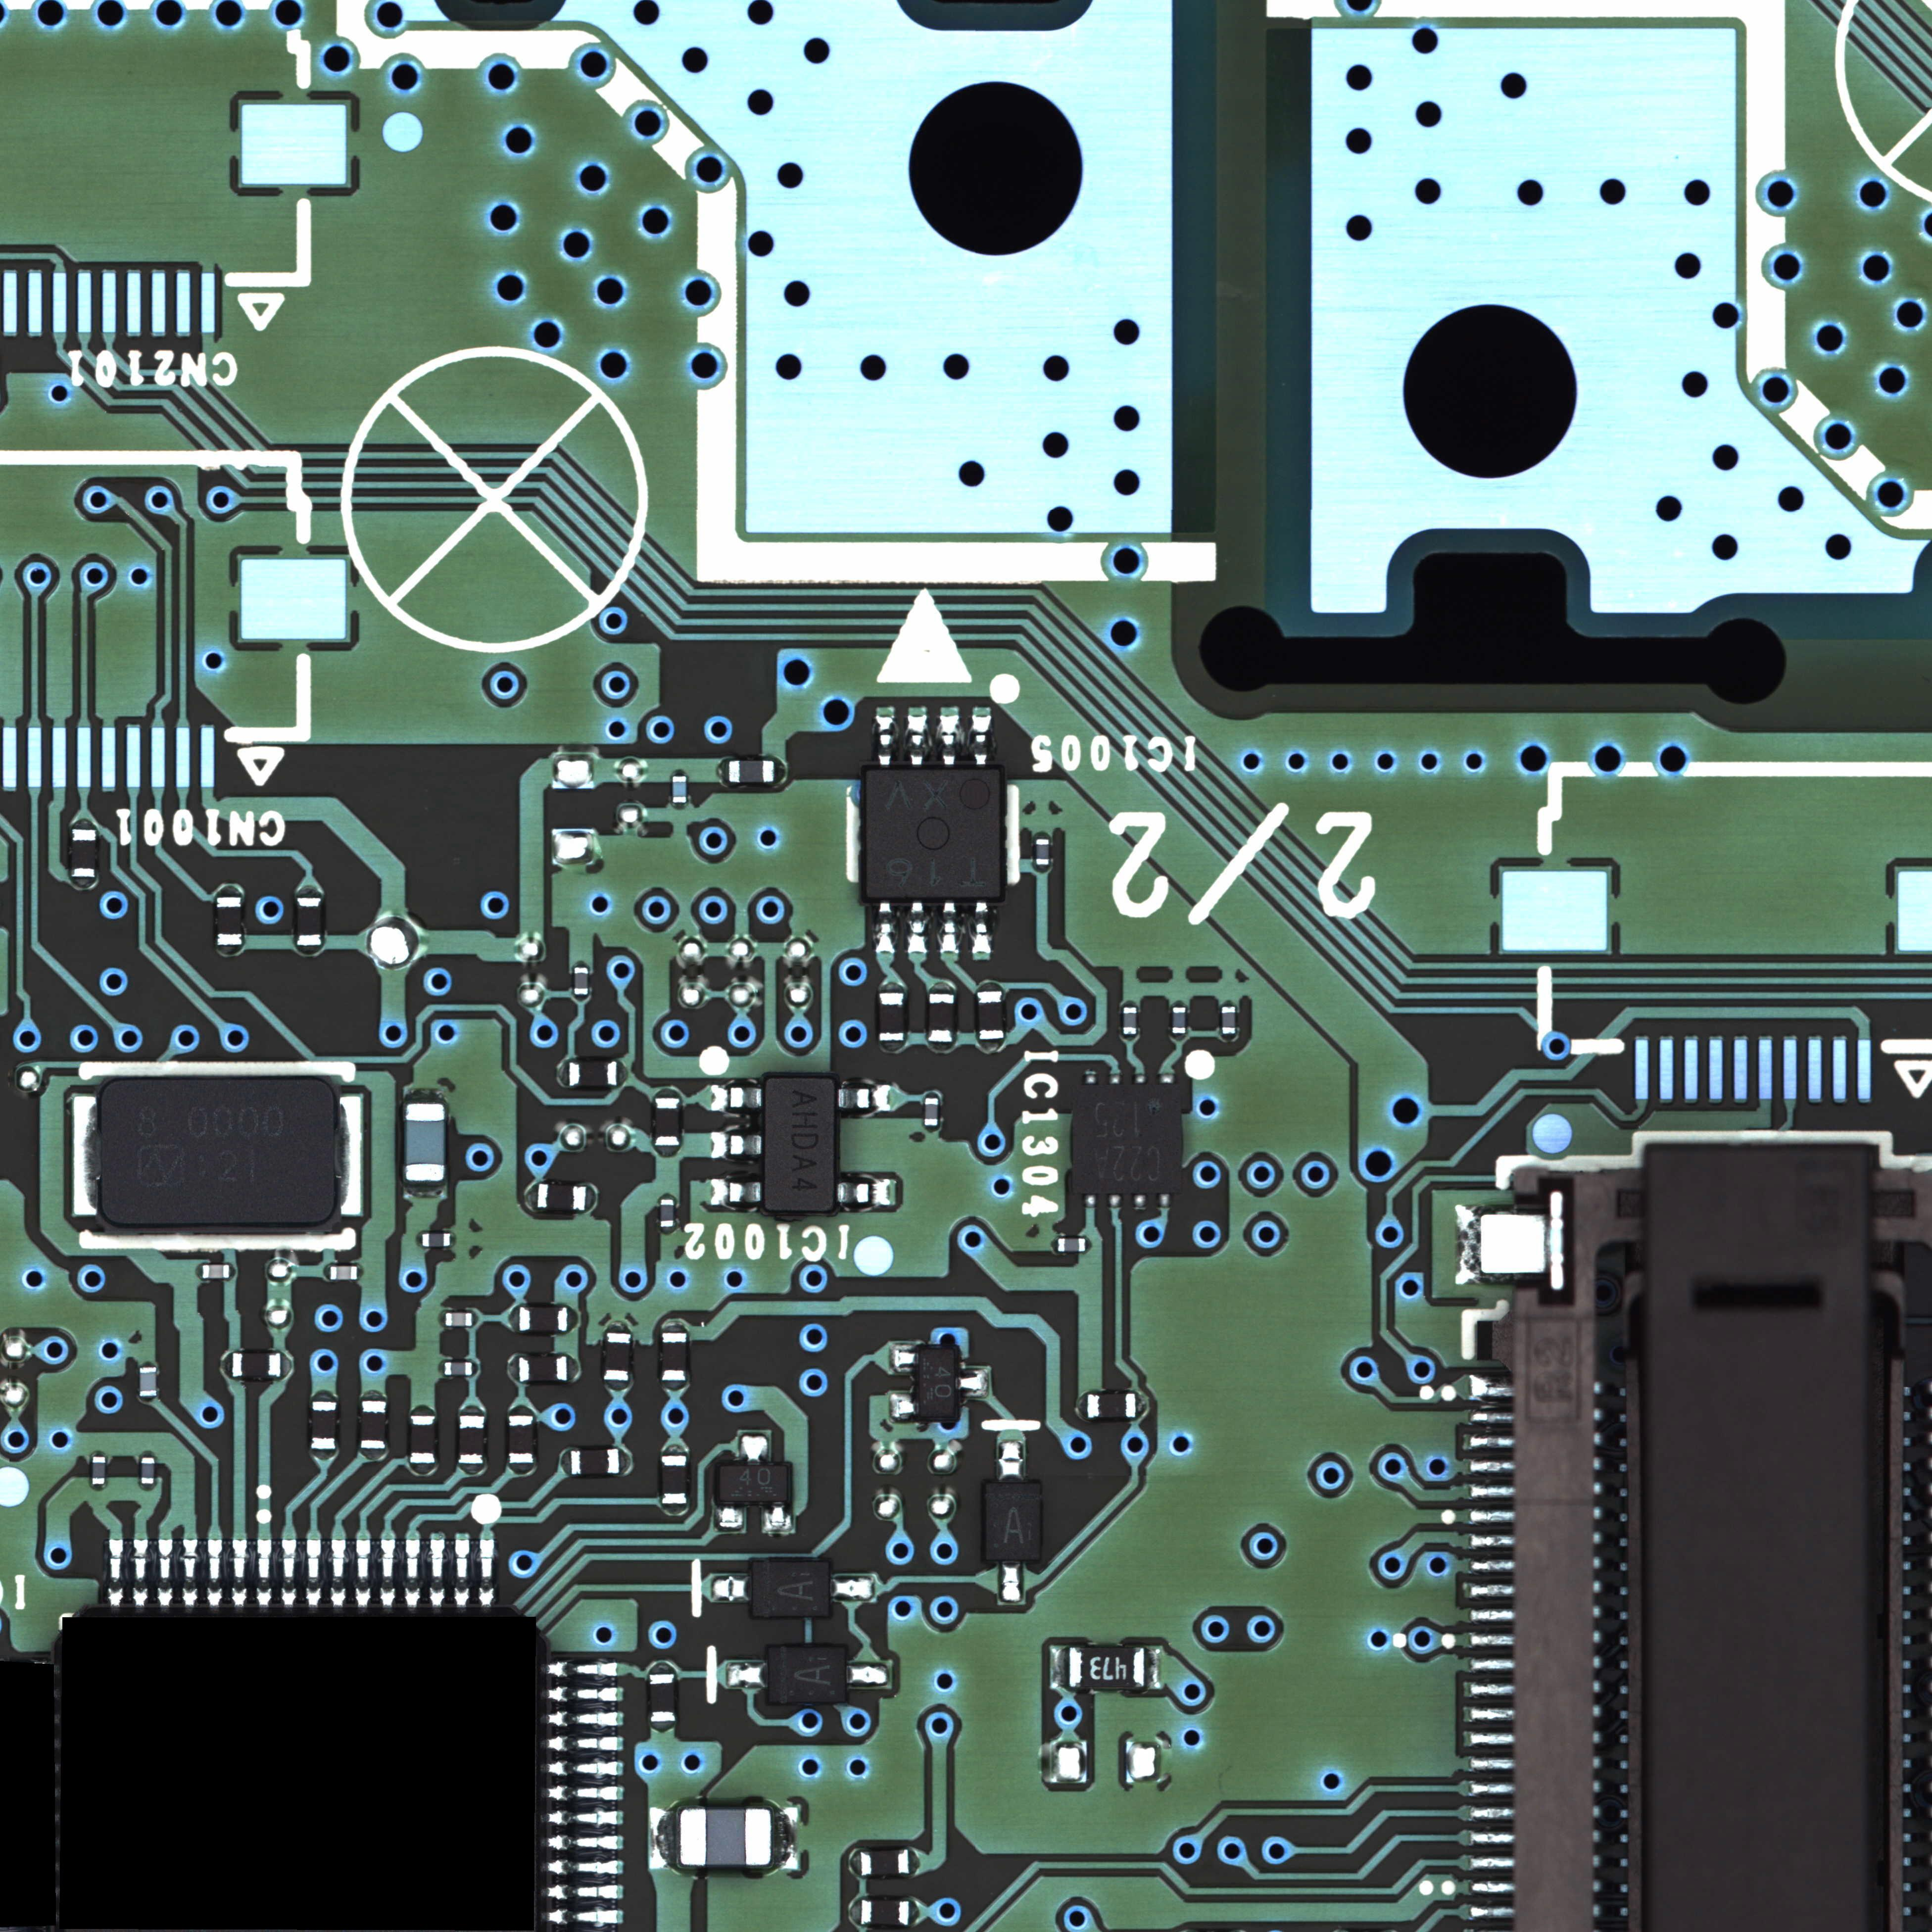Package: (99, 1079, 336, 1224), (865, 768, 1005, 899), (1072, 1085, 1180, 1192), (763, 1077, 837, 1208), (679, 1808, 771, 1867), (768, 1647, 846, 1702), (752, 1560, 830, 1615), (985, 1483, 1039, 1560), (1069, 1647, 1145, 1688), (405, 1104, 444, 1180), (718, 1467, 789, 1502), (918, 1348, 955, 1415), (216, 897, 242, 945), (232, 1352, 280, 1378), (538, 1184, 586, 1210), (71, 828, 96, 878), (605, 1332, 630, 1382), (978, 991, 1003, 1040), (655, 1097, 679, 1146), (518, 1357, 566, 1382), (571, 1449, 619, 1474), (570, 1062, 617, 1086), (879, 993, 904, 1040), (929, 994, 954, 1042), (662, 1332, 686, 1380), (662, 1456, 686, 1504), (649, 1674, 674, 1721), (860, 1851, 908, 1875), (1088, 1392, 1136, 1417), (862, 1900, 908, 1925), (297, 897, 320, 945), (311, 1401, 334, 1449), (363, 1401, 386, 1449), (410, 1415, 433, 1463), (460, 1415, 483, 1463), (510, 1415, 533, 1463), (729, 759, 773, 784), (520, 1307, 566, 1330), (140, 1368, 157, 1396), (924, 1097, 939, 1125), (573, 966, 587, 994), (660, 1200, 674, 1228), (1123, 1007, 1138, 1035), (331, 1267, 357, 1281), (423, 1233, 449, 1247), (446, 1362, 472, 1376), (672, 777, 686, 803), (1058, 1238, 1085, 1253), (1221, 1007, 1235, 1033), (203, 1265, 230, 1277), (92, 1458, 104, 1484), (446, 1313, 472, 1325), (1037, 839, 1049, 865), (1173, 1007, 1185, 1033), (142, 1458, 154, 1483)
Solder: (73, 1095, 99, 1215), (336, 1097, 361, 1215), (649, 1806, 679, 1868), (771, 1806, 800, 1870), (837, 1178, 890, 1205), (837, 1085, 890, 1111), (711, 1085, 763, 1111), (711, 1132, 763, 1159), (711, 1178, 763, 1205), (548, 1808, 619, 1826), (830, 1575, 876, 1601), (453, 1537, 471, 1606), (403, 1537, 421, 1606), (379, 1537, 396, 1606), (329, 1537, 347, 1606), (180, 1539, 198, 1606), (205, 1539, 223, 1606), (255, 1539, 272, 1606), (545, 1661, 617, 1677), (547, 1686, 619, 1702), (547, 1711, 619, 1727), (547, 1760, 619, 1776), (998, 1440, 1024, 1483), (548, 1736, 619, 1752), (548, 1882, 619, 1898), (230, 1537, 246, 1606), (478, 1537, 494, 1606), (428, 1537, 444, 1606), (356, 1537, 372, 1606), (548, 1835, 617, 1851), (846, 1661, 890, 1686), (108, 1539, 124, 1606), (133, 1539, 149, 1606), (157, 1539, 173, 1606), (280, 1539, 295, 1606), (306, 1539, 322, 1606), (908, 899, 927, 954), (876, 899, 895, 954), (725, 1663, 768, 1688), (998, 1560, 1023, 1603), (939, 901, 959, 954), (971, 715, 991, 768), (939, 715, 959, 768), (908, 715, 927, 768), (876, 715, 895, 768), (955, 1368, 989, 1398), (548, 1785, 619, 1799), (548, 1909, 619, 1923), (548, 1859, 619, 1874), (973, 899, 991, 954), (711, 1576, 750, 1601), (763, 1502, 793, 1532), (715, 1502, 745, 1532), (888, 1343, 918, 1373), (740, 1433, 768, 1465), (890, 1392, 918, 1422), (405, 1180, 446, 1200), (1051, 1647, 1069, 1688), (1145, 1649, 1161, 1688), (405, 1088, 444, 1102), (908, 1849, 922, 1875), (605, 1320, 632, 1332), (619, 1449, 632, 1476), (566, 1355, 579, 1382), (508, 1306, 520, 1332), (660, 1320, 686, 1332), (525, 1184, 538, 1210), (311, 1389, 336, 1401), (410, 1463, 435, 1476), (662, 1444, 686, 1456), (649, 1661, 674, 1674), (649, 1721, 674, 1734), (717, 759, 729, 784), (977, 1040, 1005, 1051), (218, 885, 241, 897), (297, 885, 320, 897), (313, 1449, 336, 1461), (410, 1403, 433, 1415), (510, 1463, 533, 1476), (281, 1352, 292, 1378), (561, 1449, 571, 1476), (568, 1306, 579, 1332), (662, 1504, 688, 1514), (1136, 1392, 1146, 1419), (1077, 1392, 1088, 1419), (849, 1849, 860, 1875), (586, 1184, 596, 1210), (617, 1060, 628, 1086), (655, 1146, 681, 1157), (879, 1040, 906, 1051), (775, 757, 786, 784), (218, 945, 242, 955), (361, 1389, 386, 1399), (361, 1449, 386, 1460), (508, 1405, 533, 1415), (662, 1380, 686, 1391), (849, 1900, 860, 1925), (909, 1900, 920, 1925), (879, 982, 904, 993), (929, 982, 954, 993), (73, 817, 96, 828), (73, 878, 96, 888), (460, 1405, 483, 1415), (460, 1465, 483, 1476), (510, 1355, 518, 1382), (977, 982, 1003, 991), (1108, 1192, 1122, 1208), (1157, 1192, 1171, 1208), (605, 1382, 630, 1391), (655, 1088, 679, 1097), (929, 1042, 954, 1051), (299, 947, 322, 955), (223, 1353, 232, 1376), (559, 1062, 568, 1085), (1085, 1192, 1097, 1208), (1134, 1192, 1146, 1208), (1157, 1074, 1175, 1085), (1132, 1074, 1146, 1085), (195, 1263, 203, 1279), (437, 1311, 446, 1327), (1035, 865, 1051, 874), (1085, 1074, 1097, 1085), (1109, 1074, 1122, 1085), (925, 1125, 939, 1134), (357, 1263, 364, 1279), (140, 1484, 156, 1491), (472, 1361, 479, 1376), (416, 1231, 423, 1247), (1122, 1000, 1138, 1007), (1122, 1035, 1138, 1042), (1035, 832, 1051, 839), (1223, 1033, 1235, 1042), (1173, 1033, 1185, 1042), (437, 1361, 444, 1375), (660, 1192, 674, 1200), (660, 1228, 674, 1235), (92, 1484, 106, 1491), (1221, 1000, 1235, 1007), (1171, 1000, 1185, 1007), (672, 770, 686, 777), (672, 803, 686, 810), (1051, 1238, 1058, 1251), (575, 994, 587, 1001), (230, 1263, 235, 1279), (324, 1263, 329, 1279), (140, 1361, 156, 1366), (140, 1398, 156, 1403), (1086, 1237, 1092, 1253), (451, 1231, 456, 1247), (140, 1451, 154, 1456), (472, 1313, 478, 1327), (573, 961, 587, 966), (92, 1451, 106, 1456), (925, 1092, 938, 1097)
